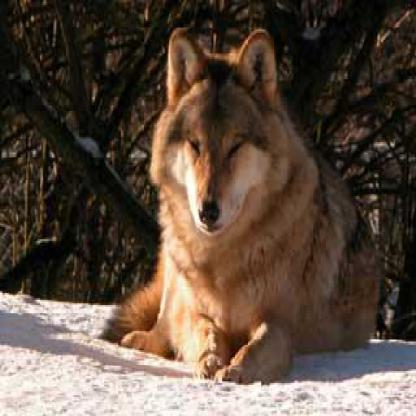dhole: (99, 26, 382, 387)
